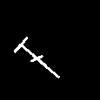double_crochet: (14, 37, 59, 77)
